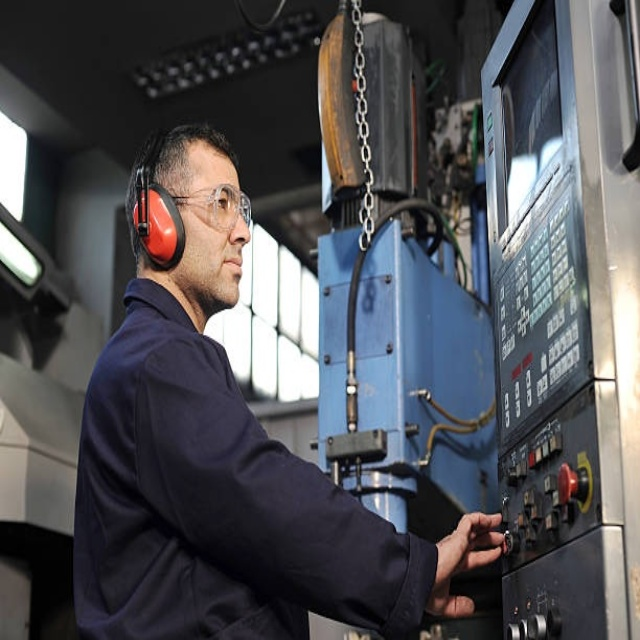Gafas: (165, 185, 254, 232)
Sin_guantes: (427, 511, 509, 617)
Sin_mascara: (210, 245, 245, 299)
